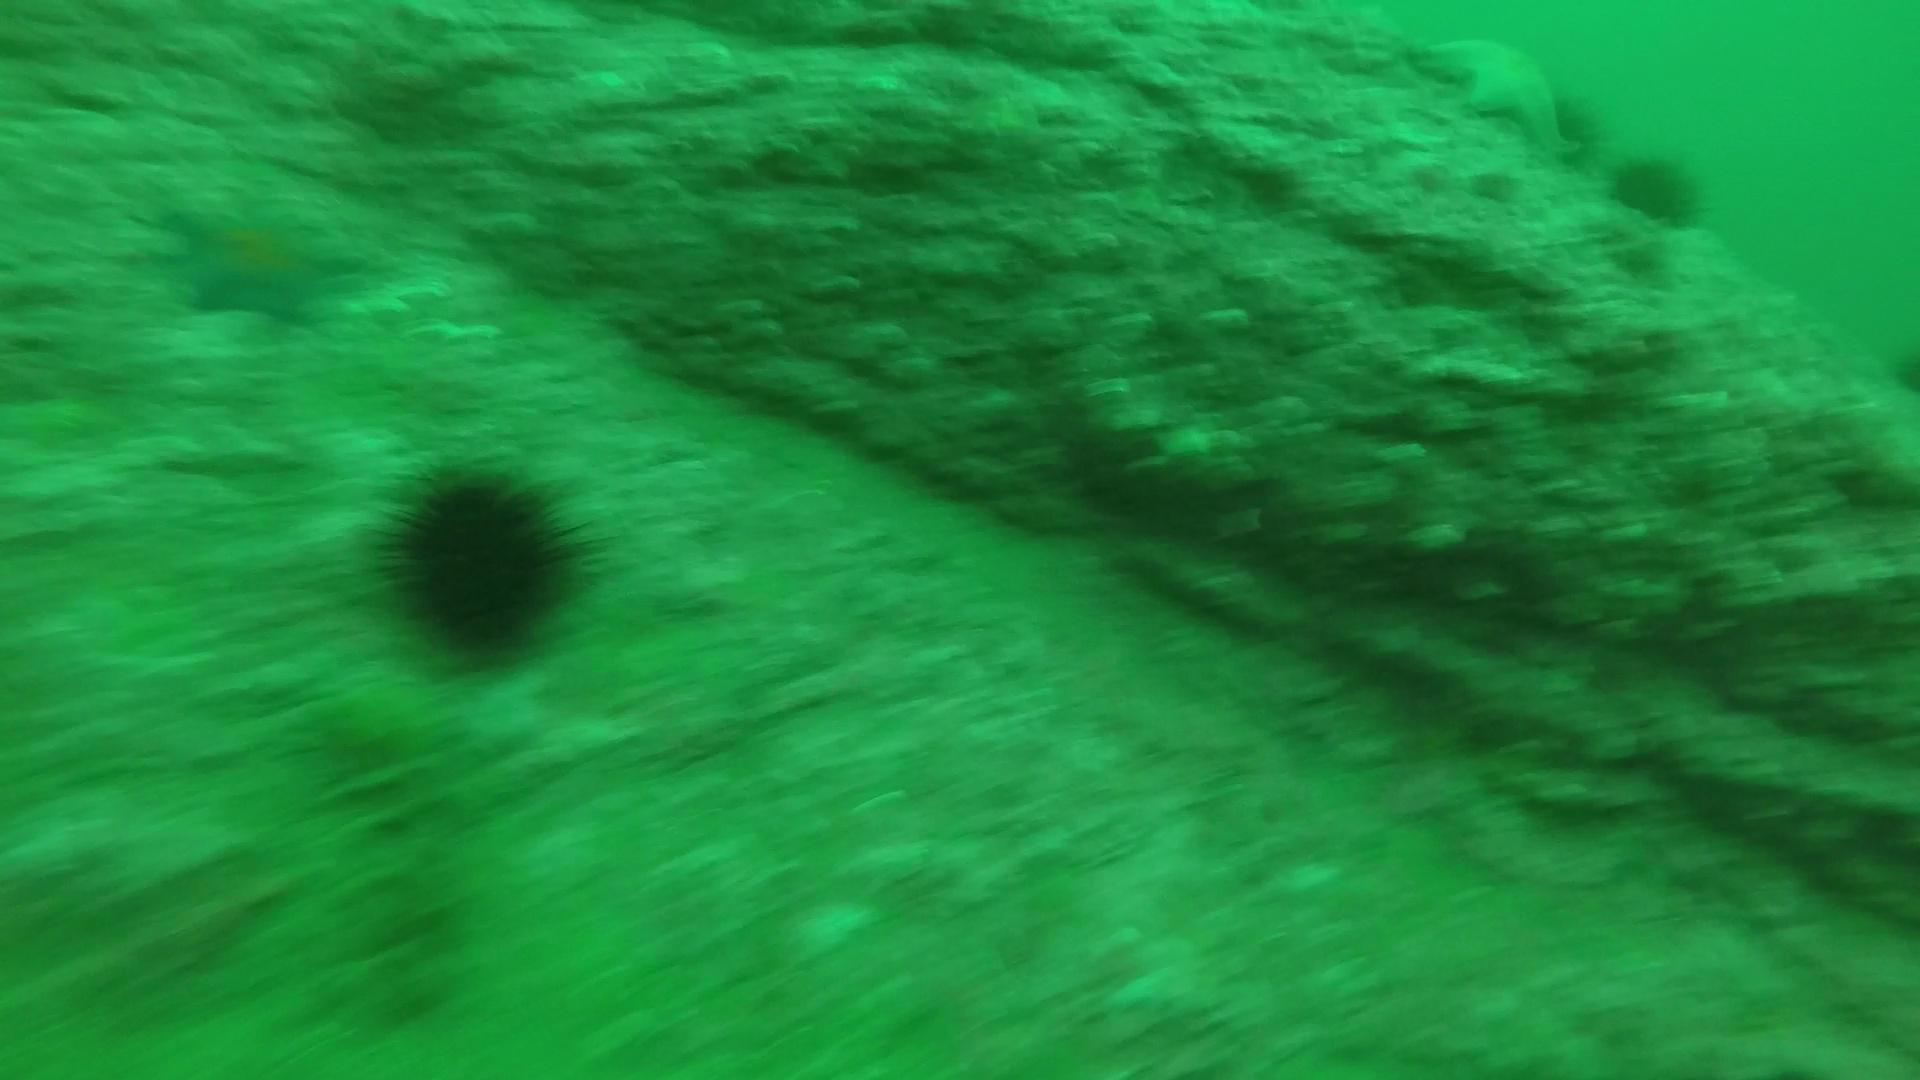urchin: (386, 477, 611, 669), (1609, 152, 1700, 233), (1880, 324, 1920, 406)
